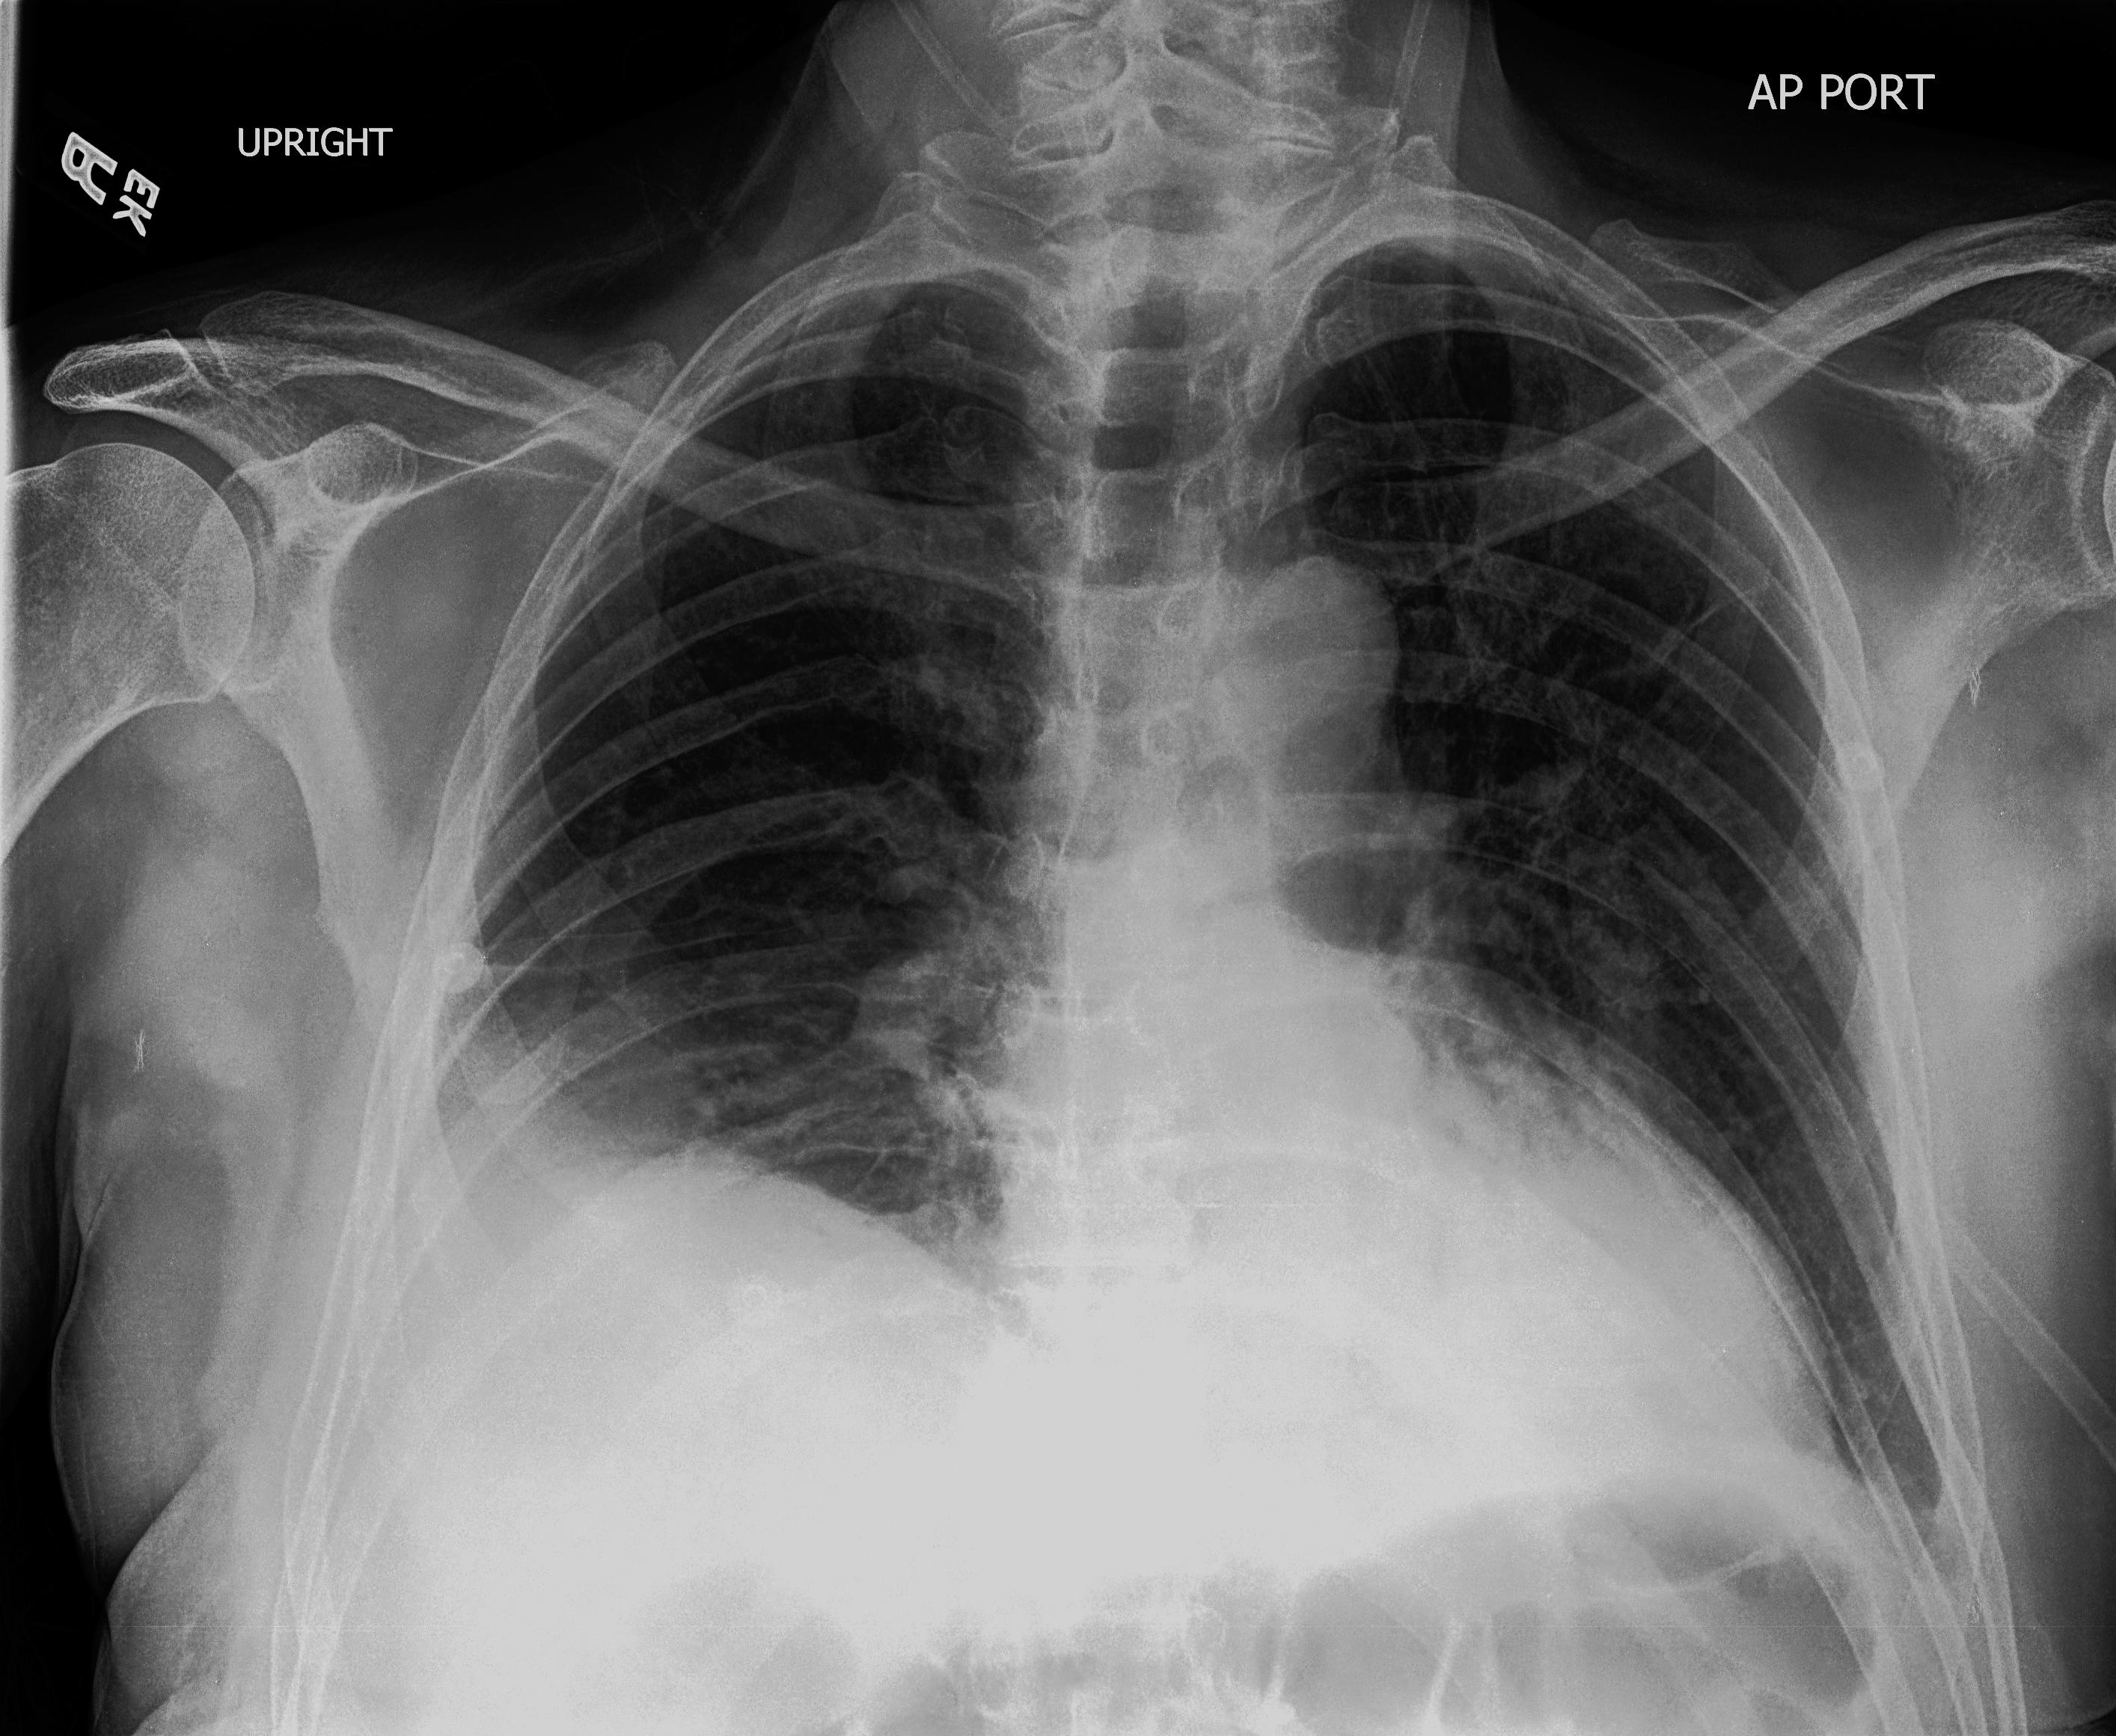Pleural Effusion: (283, 977, 634, 1720)
